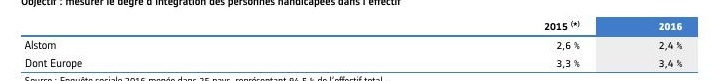table: (0, 0, 719, 81)
